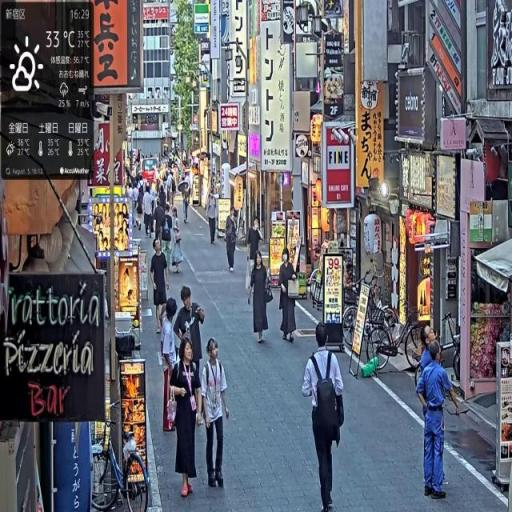person: (303, 323, 347, 512), (417, 337, 464, 503), (169, 336, 205, 500), (201, 336, 233, 493), (173, 285, 207, 379), (160, 296, 181, 431), (248, 252, 273, 346), (279, 248, 300, 344), (151, 240, 171, 340), (247, 216, 265, 304), (225, 210, 239, 275), (208, 187, 220, 247), (144, 188, 157, 239), (154, 197, 166, 250)
